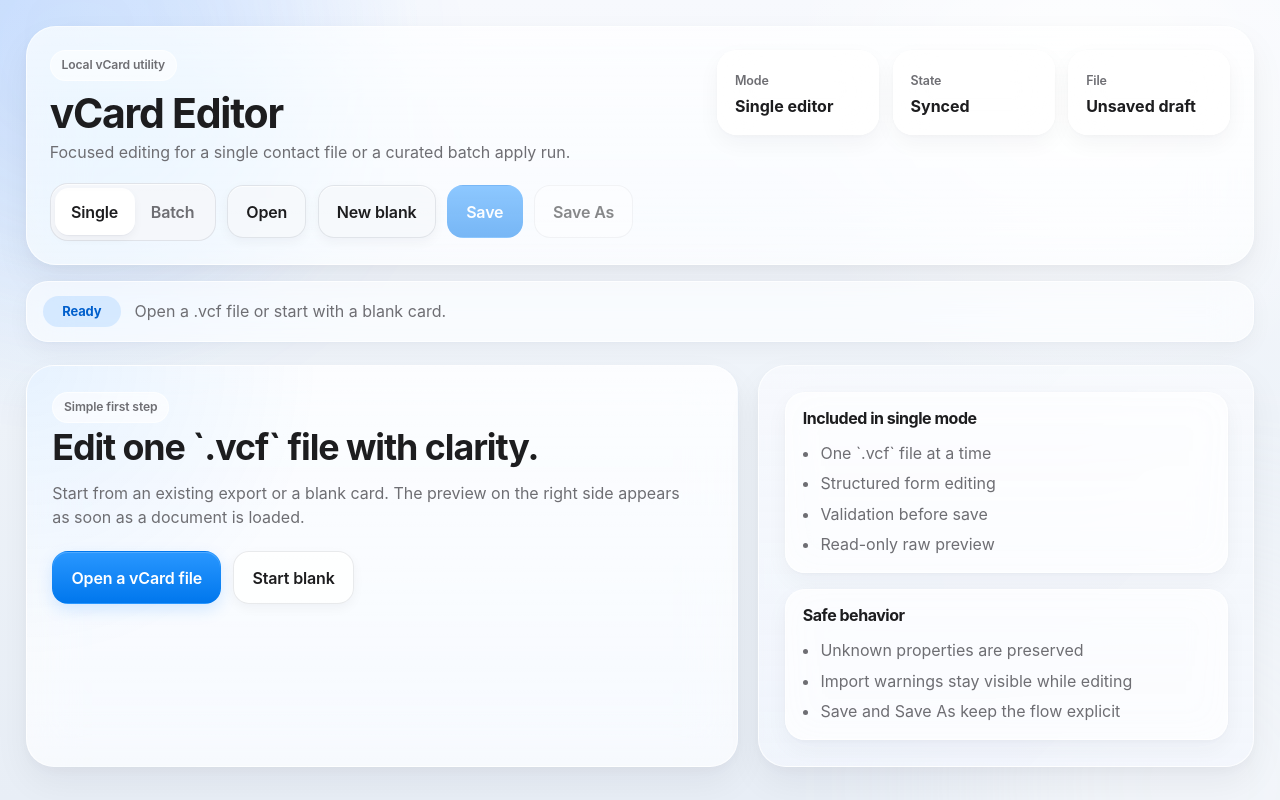
Test: App › shows a visible error when opening a file fails to parse
This screenshot has width=1280, height=800.
Click the button "Open a vCard file": point(137, 578) [52,551,221,604]
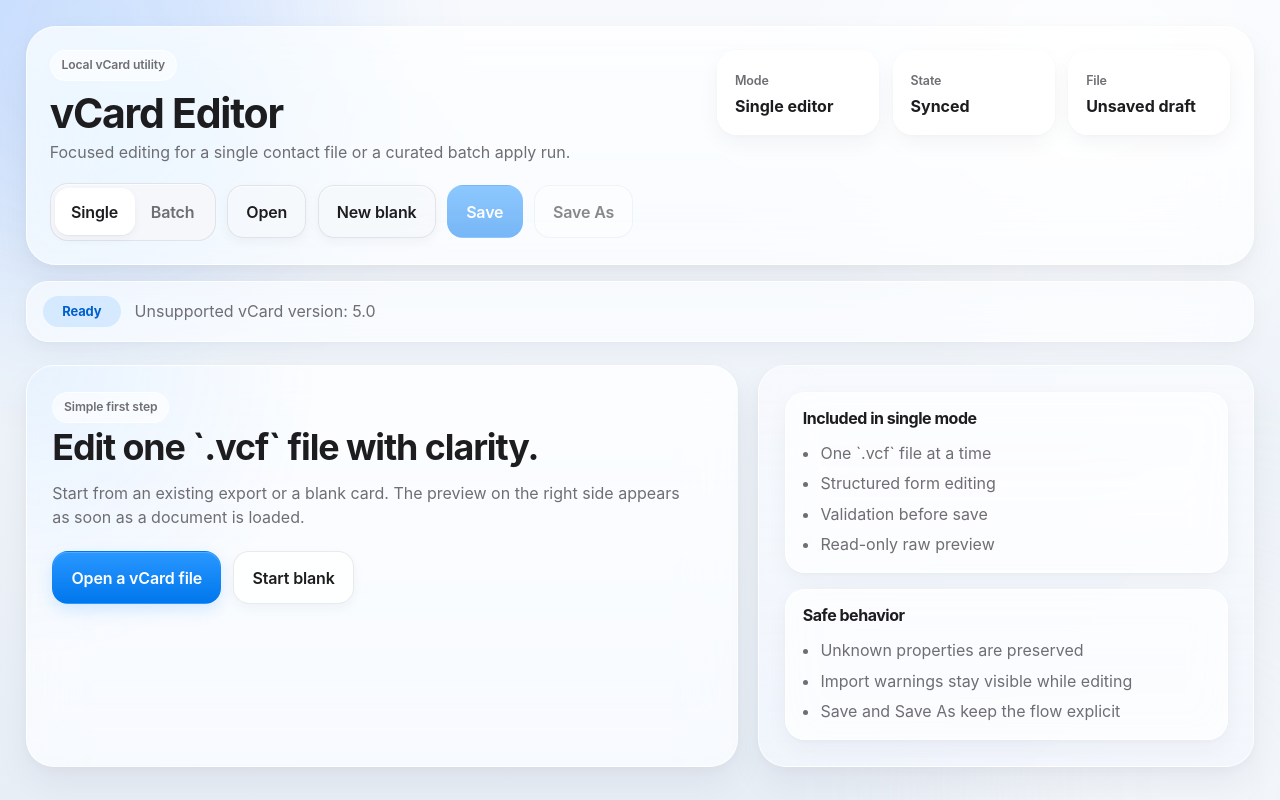
Expected: the element with test id "empty-state" is shown, [26,366,1254,767]
Now the text "Unsupported vCard version: 5.0" is shown, box [135,299,376,323]
